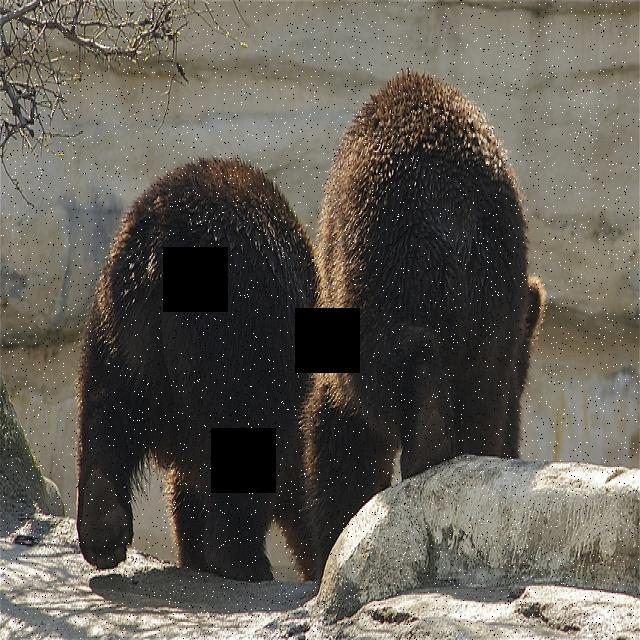Bear: (72, 151, 387, 609), (306, 56, 564, 484)
